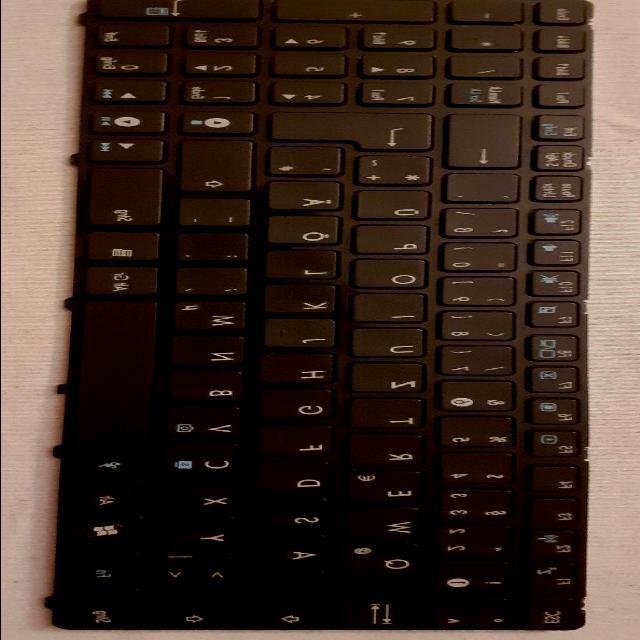0: (442, 243, 523, 274)
1: (434, 561, 516, 595)
2: (436, 525, 516, 559)
3: (438, 490, 519, 523)
4: (440, 454, 520, 486)
5: (439, 417, 521, 449)
6: (439, 382, 521, 414)
7: (440, 347, 521, 378)
8: (440, 312, 521, 343)
9: (441, 278, 522, 309)
a: (252, 535, 333, 567)
accent: (446, 175, 526, 206)
ae: (267, 183, 347, 213)
alt-left: (66, 480, 151, 514)
altgr-right: (85, 267, 163, 297)
b: (170, 371, 248, 403)
c: (162, 442, 247, 476)
caret: (435, 599, 511, 631)
comma: (174, 268, 252, 298)
d: (253, 462, 337, 494)
del: (446, 115, 527, 171)
e: (345, 471, 429, 504)
enter: (270, 114, 438, 153)
f: (257, 426, 339, 457)
g: (258, 390, 341, 421)
h: (260, 354, 341, 385)
hash: (268, 148, 348, 179)
i: (353, 295, 431, 325)
j: (263, 321, 341, 350)
k: (262, 286, 343, 316)
keyboard: (38, 0, 610, 637)
l: (263, 251, 345, 281)
less: (155, 552, 240, 585)
m: (170, 302, 251, 333)
minus: (178, 199, 254, 229)
n: (171, 336, 249, 367)
o: (352, 260, 433, 291)
oe: (265, 217, 346, 247)
p: (355, 226, 435, 257)
plus: (357, 157, 438, 188)
point: (176, 233, 254, 263)
q: (345, 543, 425, 578)
r: (346, 434, 430, 467)
s: (250, 499, 334, 531)
shift-left: (155, 589, 235, 631)
shift-lock: (250, 571, 333, 630)
shift-right: (179, 142, 260, 194)
space: (72, 301, 160, 475)
ss: (443, 209, 524, 240)
strg-left: (55, 589, 145, 631)
strg-right: (86, 168, 167, 228)
t: (349, 399, 430, 431)
tab: (342, 580, 423, 631)
u: (350, 329, 431, 360)
ue: (355, 192, 436, 223)
v: (165, 407, 247, 439)
w: (345, 508, 427, 540)
x: (160, 480, 246, 512)
y: (160, 516, 241, 549)
z: (348, 364, 431, 395)
